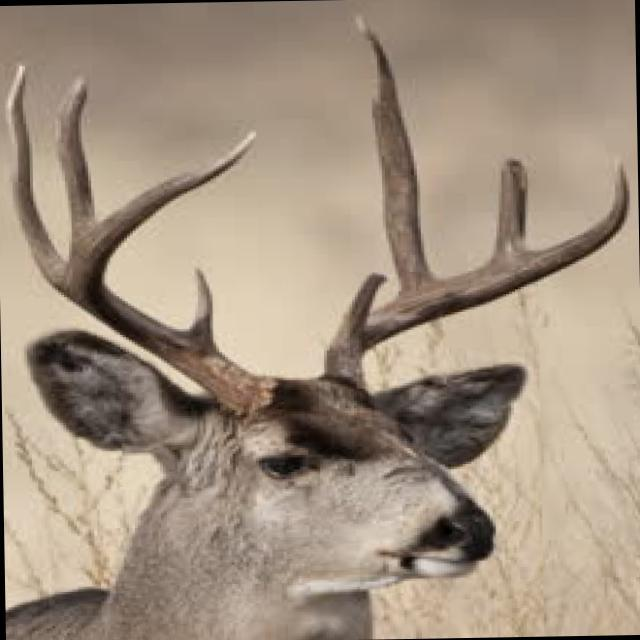L-F: (325, 169, 629, 382)
R-F: (61, 128, 278, 412)
